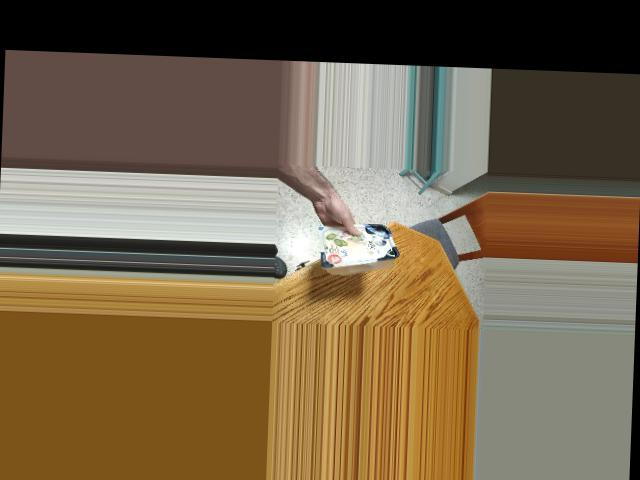cheese: (320, 214, 395, 272)
